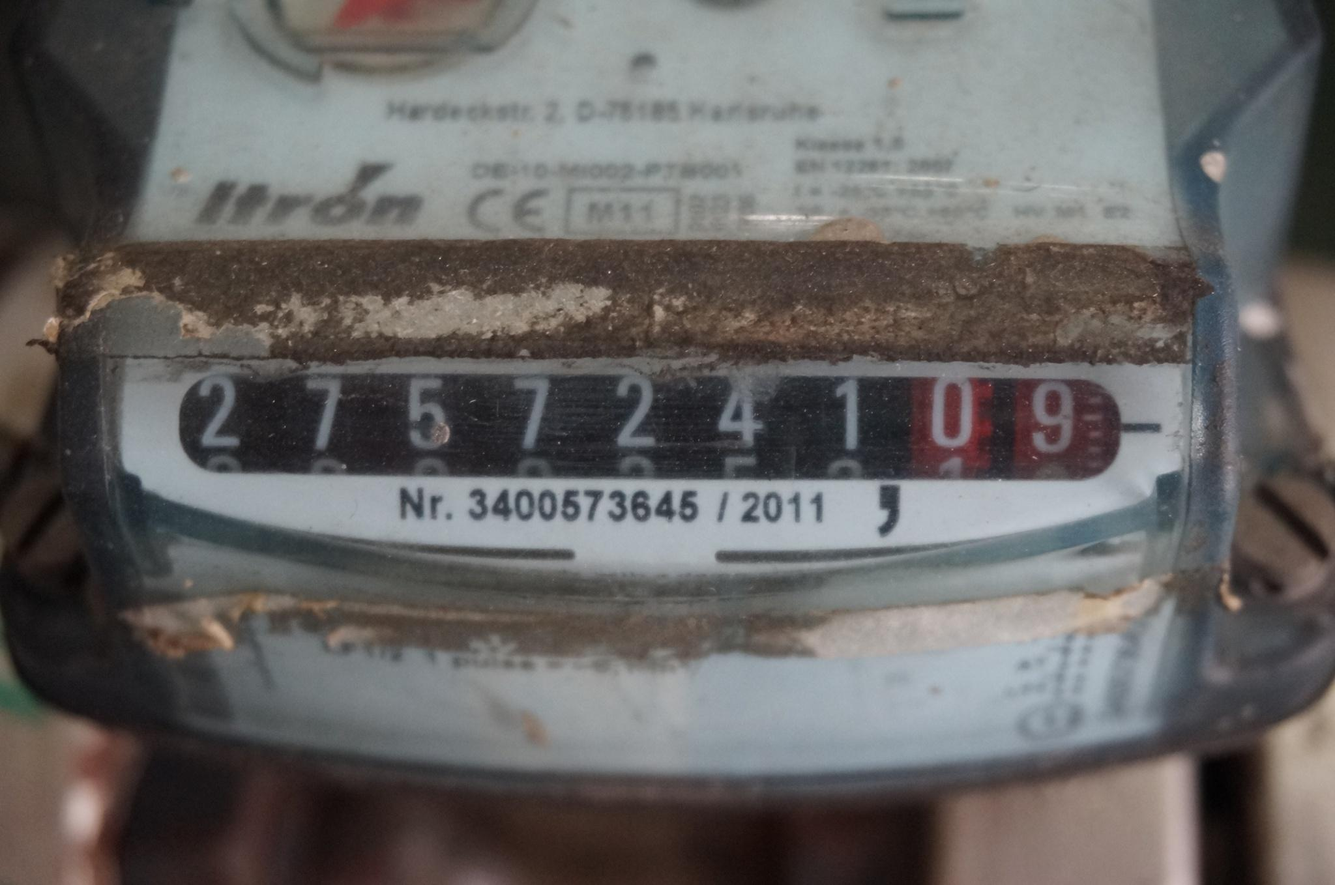analog_dial: (170, 353, 1167, 499)
